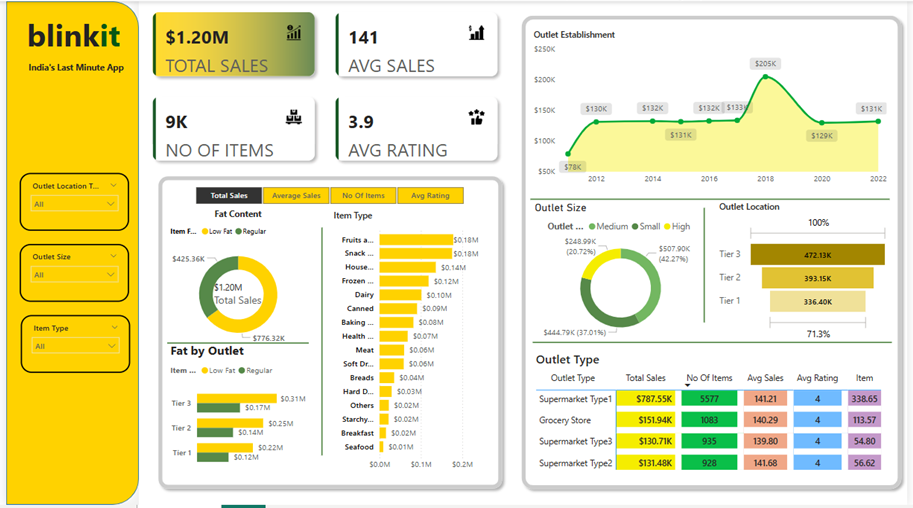

The page's visual inventory and layout, read from the dashboard file:
{"tool":"powerbi","page":{"name":"Page 1","canvas":[1400,800],"ordinal":0},"visuals":[{"type":"shape","box":[0,0,206,800],"z":0},{"type":"textbox","box":[14,14,180,76],"z":1000},{"type":"textbox","box":[30,90,180,46],"z":2000},{"type":"cardVisual","fields":{"Data":["BlinkIT Grocery Data.Total Sales","BlinkIT Grocery Data.Average Sales","BlinkIT Grocery Data.No Of Items","BlinkIT Grocery Data.Avg Rating"]},"box":[210,0,570,270],"z":3000},{"type":"shape","box":[228,270,552,514],"z":4000},{"type":"donutChart","title":"Fat Content","fields":{"Y":["BlinkIT Grocery Data.Total Sales"],"Category":["BlinkIT Grocery Data.Item Fat Content"]},"box":[250,328,220,230],"z":5000},{"type":"slicer","fields":{"Values":["Metrics.Metrics"]},"box":[270,288,465,40],"z":6000},{"type":"cardVisual","fields":{"Data":["BlinkIT Grocery Data.Total Sales"]},"box":[306,422,108,84],"z":7000},{"type":"clusteredBarChart","title":"Fat by Outlet ","fields":{"Y":["BlinkIT Grocery Data.Total Sales"],"Category":["BlinkIT Grocery Data.Outlet Location Type"],"Series":["BlinkIT Grocery Data.Item Fat Content"]},"box":[250,542,220,212],"z":8000},{"type":"shape","box":[250,528,220,30],"z":9000},{"type":"shape","box":[484,360,12,362],"z":10000},{"type":"barChart","title":"Item Type","fields":{"Y":["BlinkIT Grocery Data.Total Sales"],"Category":["BlinkIT Grocery Data.Item Type"]},"box":[504,330,252,424],"z":11000},{"type":"shape","box":[792,14,608,770],"z":11001},{"type":"lineChart","title":"Outlet Establishment","fields":{"Y":["BlinkIT Grocery Data.Total Sales"],"Category":["BlinkIT Grocery Data.Outlet Establishment Year"]},"box":[814,44,558,256],"z":11002},{"type":"shape","box":[814,300,558,28],"z":11003},{"type":"donutChart","title":"Outlet Size","fields":{"Category":["BlinkIT Grocery Data.Outlet Size"],"Y":["BlinkIT Grocery Data.Total Sales"]},"box":[816,318,276,226],"z":11004},{"type":"shape","box":[1078,328,12,182],"z":11005},{"type":"funnel","title":"Outlet Location","fields":{"Category":["BlinkIT Grocery Data.Outlet Location Type"],"Y":["Sum(BlinkIT Grocery Data.Sales)"]},"box":[1102,316,272,228],"z":11006},{"type":"shape","box":[818,528,558,28],"z":11007},{"type":"pivotTable","title":"Outlet Type","fields":{"Rows":["BlinkIT Grocery Data.Outlet Type"],"Values":["BlinkIT Grocery Data.Total Sales","BlinkIT Grocery Data.No Of Items","BlinkIT Grocery Data.Average Sales","BlinkIT Grocery Data.Avg Rating","Sum(BlinkIT Grocery Data.Item Visibility)"]},"box":[818,556,558,210],"z":11008},{"type":"slicer","fields":{"Values":["BlinkIT Grocery Data.Outlet Location Type"]},"box":[20,272,170,92],"z":11009},{"type":"slicer","fields":{"Values":["BlinkIT Grocery Data.Outlet Size"]},"box":[20,386,170,92],"z":11010},{"type":"slicer","fields":{"Values":["BlinkIT Grocery Data.Item Type"]},"box":[22,498,170,92],"z":11011}]}

Visuals, with their boxes in screenshot pixels (x1, y1, x2, y2), scaled from the page's 1400x800 canvas onto the 913x508 screenshot:
shape: (left=0, top=0, right=134, bottom=507)
textbox: (left=9, top=9, right=127, bottom=57)
textbox: (left=20, top=57, right=137, bottom=86)
cardVisual - BlinkIT Grocery Data.Total Sales x BlinkIT Grocery Data.Average Sales: (left=137, top=0, right=509, bottom=171)
shape: (left=149, top=171, right=509, bottom=498)
"Fat Content" donutChart: (left=163, top=208, right=307, bottom=354)
slicer - Metrics.Metrics: (left=176, top=183, right=479, bottom=208)
cardVisual - BlinkIT Grocery Data.Total Sales: (left=200, top=268, right=270, bottom=321)
"Fat by Outlet " clusteredBarChart: (left=163, top=344, right=307, bottom=479)
shape: (left=163, top=335, right=307, bottom=354)
shape: (left=316, top=229, right=323, bottom=458)
"Item Type" barChart: (left=329, top=210, right=493, bottom=479)
shape: (left=516, top=9, right=912, bottom=498)
"Outlet Establishment" lineChart: (left=531, top=28, right=895, bottom=190)
shape: (left=531, top=190, right=895, bottom=208)
"Outlet Size" donutChart: (left=532, top=202, right=712, bottom=345)
shape: (left=703, top=208, right=711, bottom=324)
"Outlet Location" funnel: (left=719, top=201, right=896, bottom=345)
shape: (left=533, top=335, right=897, bottom=353)
"Outlet Type" pivotTable: (left=533, top=353, right=897, bottom=486)
slicer - BlinkIT Grocery Data.Outlet Location Type: (left=13, top=173, right=124, bottom=231)
slicer - BlinkIT Grocery Data.Outlet Size: (left=13, top=245, right=124, bottom=304)
slicer - BlinkIT Grocery Data.Item Type: (left=14, top=316, right=125, bottom=375)
